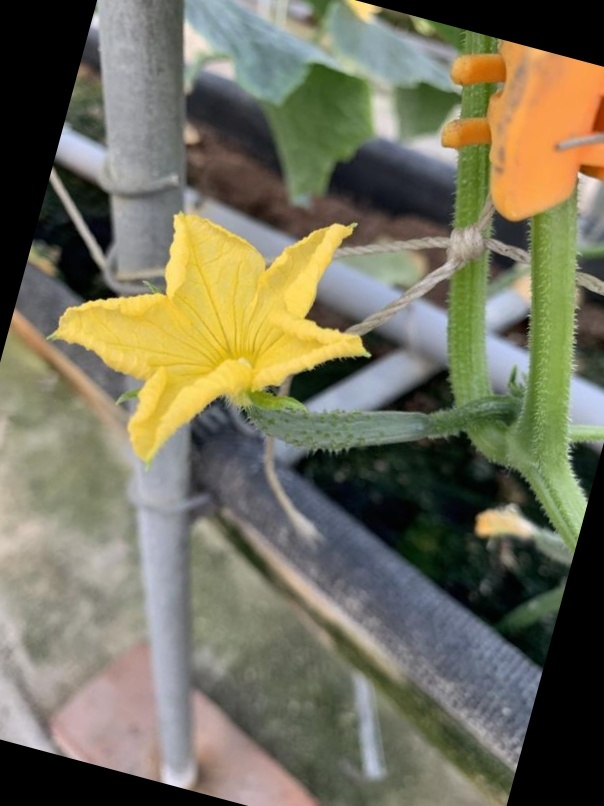flowering: (52, 205, 421, 471)
